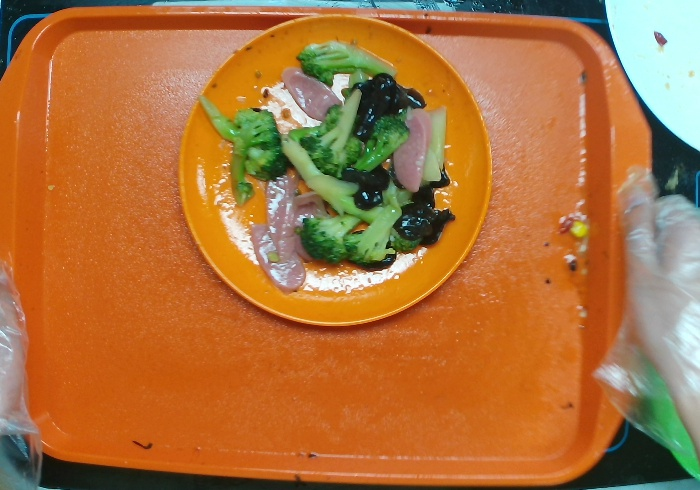HZYJPL-Ju_Huang_Yuan_Pan: (175, 8, 496, 340)
